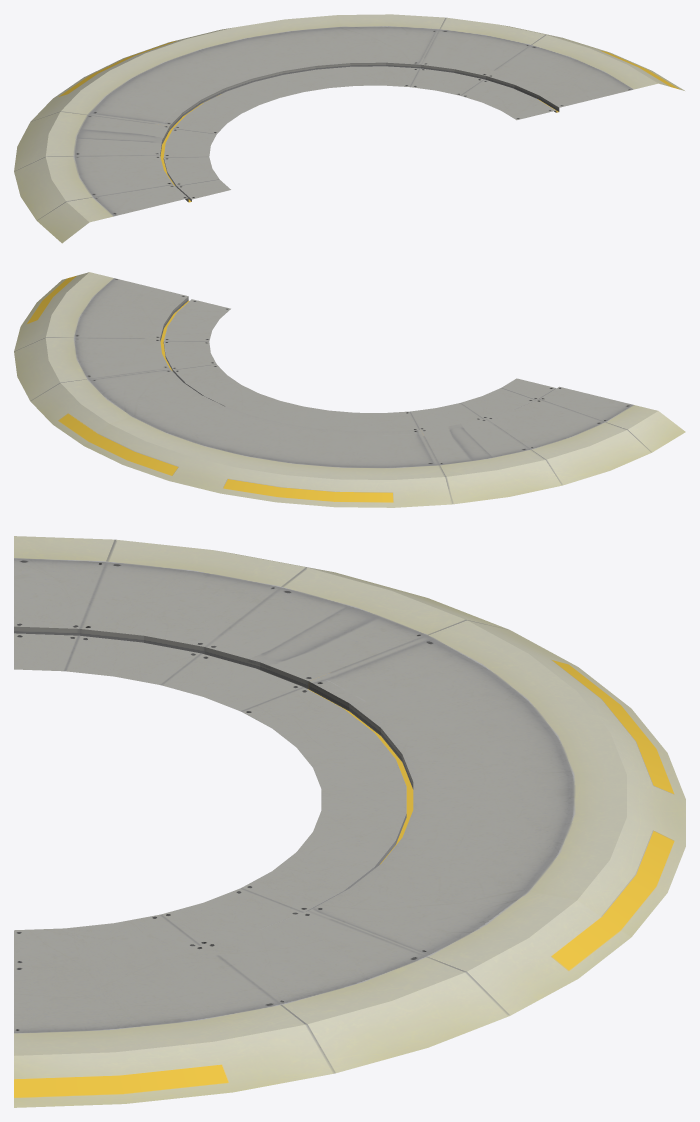
Rendered from Main_low.fbx.
3 views of the same model, one above another, from view 1: azimuth 30°, elevation 25°; view 2: azimuth 150°, elevation 25°; view 3: azimuth 270°, elevation 25° (orthographic). The views are drawn at different scales.
Visible parts, largest first — view 1: Main_low; view 2: Main_low; view 3: Main_low.
Part boxes in pixels (left/top/right/bottom): Main_low: left=14, top=14, right=684, bottom=243; Main_low: left=14, top=272, right=685, bottom=507; Main_low: left=14, top=536, right=685, bottom=1107.
Bounding box in the file's own units: 775 × 17.13 × 386.
Materials: 1 (1 with a texture image).
